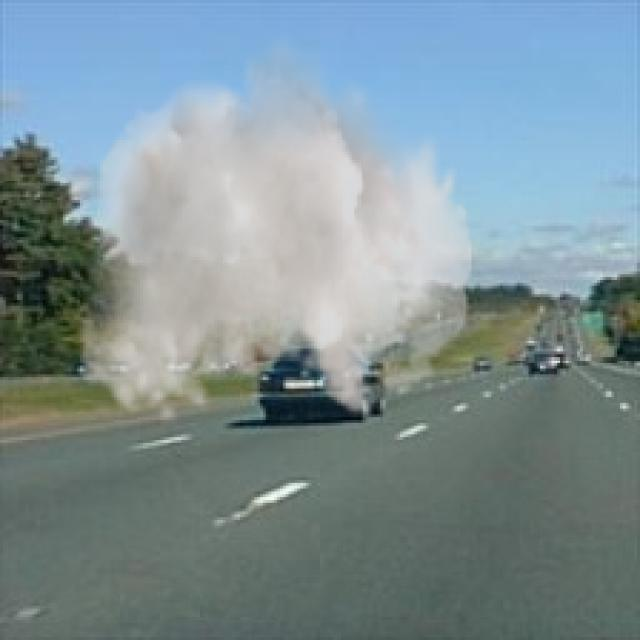smoke: (77, 28, 474, 426)
